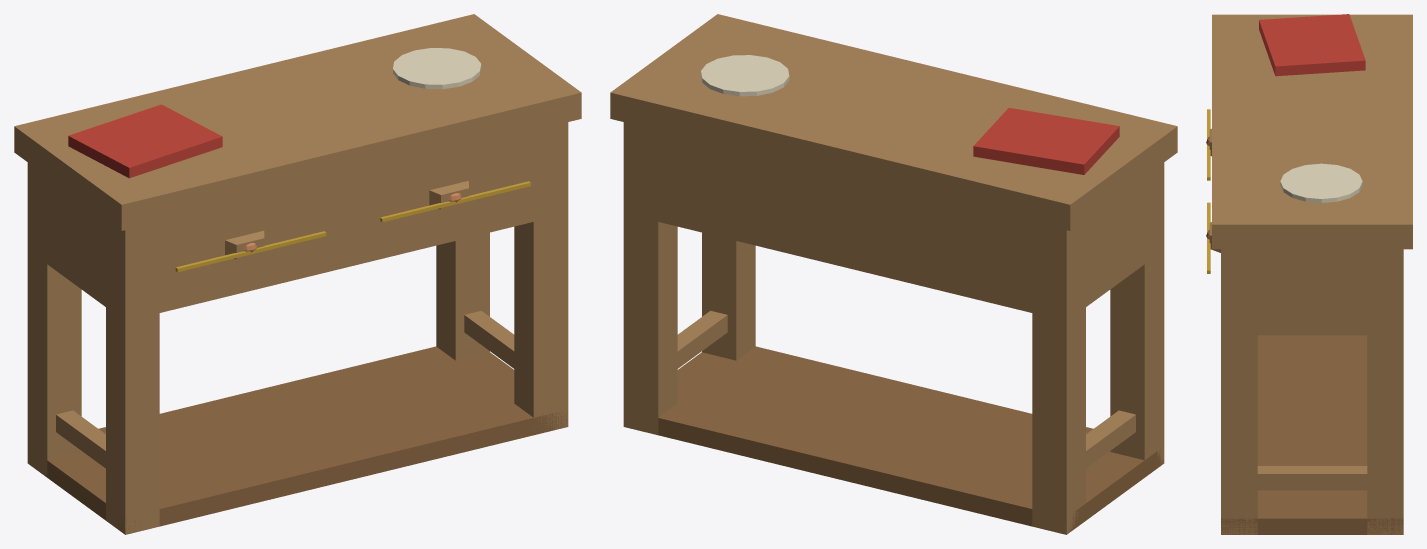
File: sideTableDrawers.glb
3 views of the same model, side by side, from view 1: azimuth 30°, elevation 25°; view 2: azimuth 150°, elevation 25°; view 3: azimuth 270°, elevation 25° (orthographic). The views are drawn at different scales.
Visible parts, largest first — view 1: sideTableDrawers(Clone), drawerLeft, drawerRight; view 2: sideTableDrawers(Clone); view 3: sideTableDrawers(Clone), drawerRight, drawerLeft.
Boxes of the visible parts, box(x1,y1,x2,y2) form: sideTableDrawers(Clone): box(14, 14, 581, 534); drawerLeft: box(159, 202, 329, 286); drawerRight: box(364, 152, 533, 235); sideTableDrawers(Clone): box(610, 14, 1177, 534); sideTableDrawers(Clone): box(1212, 14, 1412, 534); drawerRight: box(1206, 202, 1220, 273); drawerLeft: box(1206, 109, 1211, 180).
Bounding box in the file's own units: 0.5345 × 0.3844 × 0.2223.
